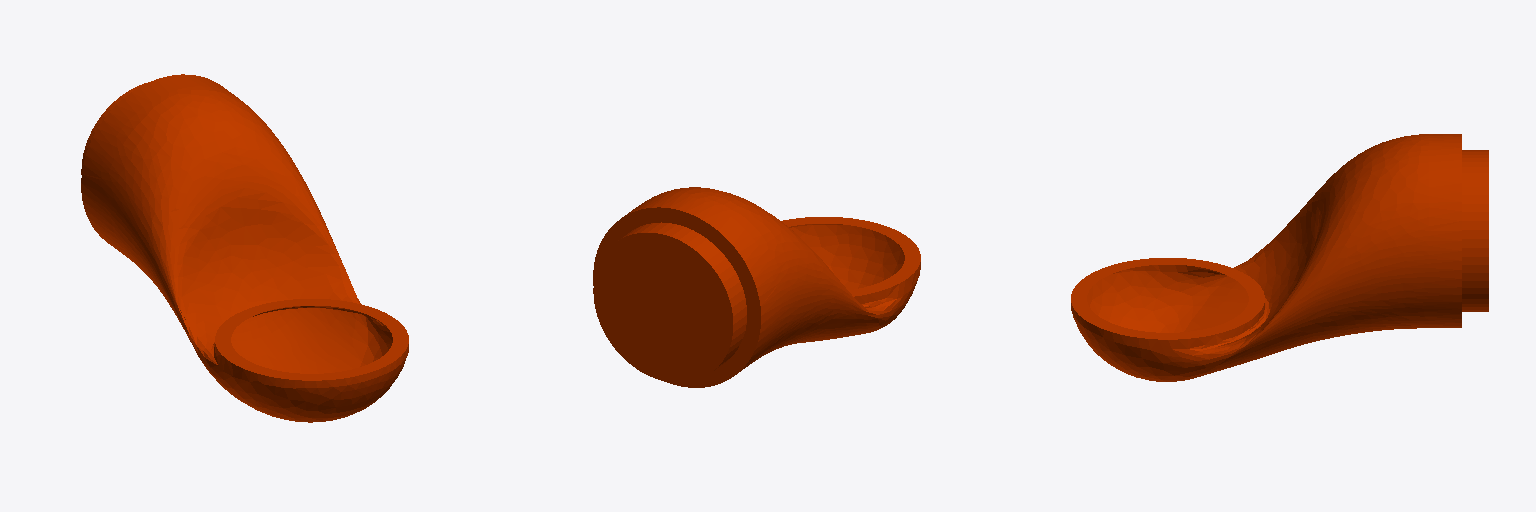
The picture shows the model from 3 angles: view 1: azimuth 30°, elevation 25°; view 2: azimuth 150°, elevation 25°; view 3: azimuth 270°, elevation 25°; orthographic projection.
Parts seen in each view (by area): view 1: /ambf/env/link5_link5.001; view 2: /ambf/env/link5_link5.001; view 3: /ambf/env/link5_link5.001.
Part boxes in pixels (x1,y1,x2,y2): /ambf/env/link5_link5.001: (81,74,408,422); /ambf/env/link5_link5.001: (593,187,920,387); /ambf/env/link5_link5.001: (1071,134,1488,381).
Bounding box in the file's own units: 0.12 × 0.1538 × 0.2585.